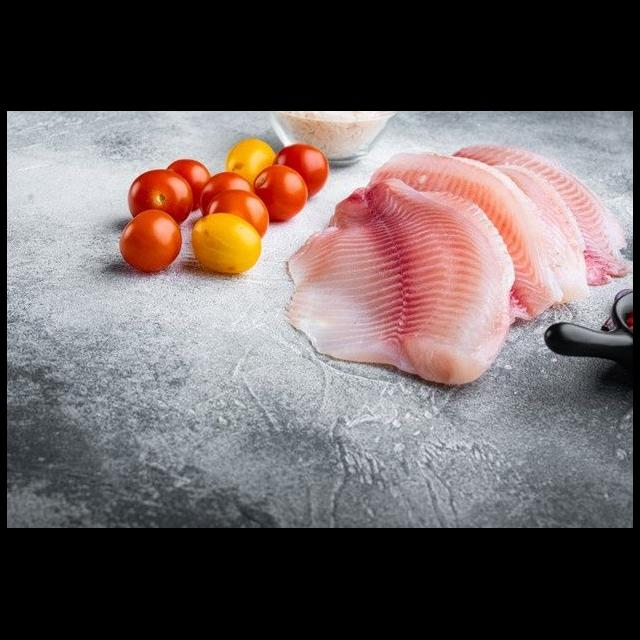fish: (276, 171, 526, 403)
